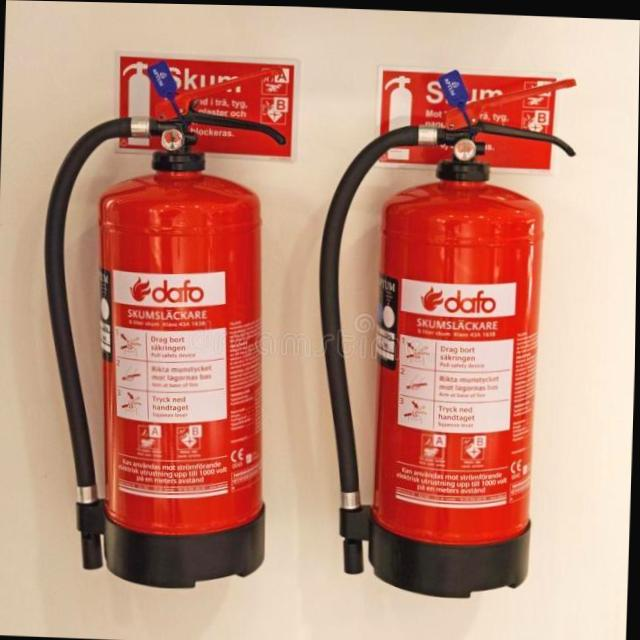FireExtinguisher: (306, 61, 585, 604), (30, 54, 292, 598)
